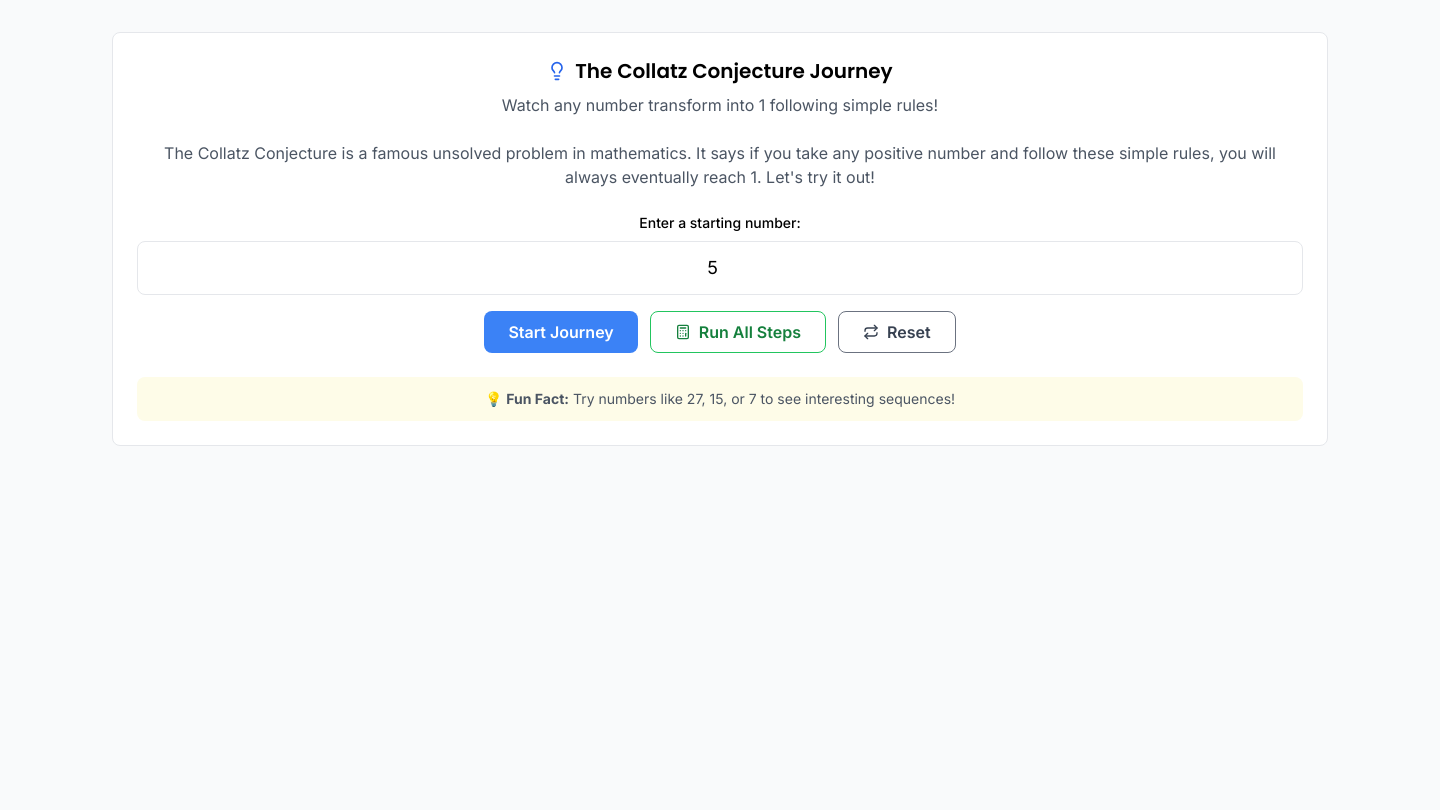
Test: CollatzVisualizer › runs all steps when Run All Steps is clicked
What coordinates should you click on to do the following:
click the button "Run All Steps"
I would click on:
 (738, 332)
Its box is x1=650 y1=311 x2=826 y2=353.
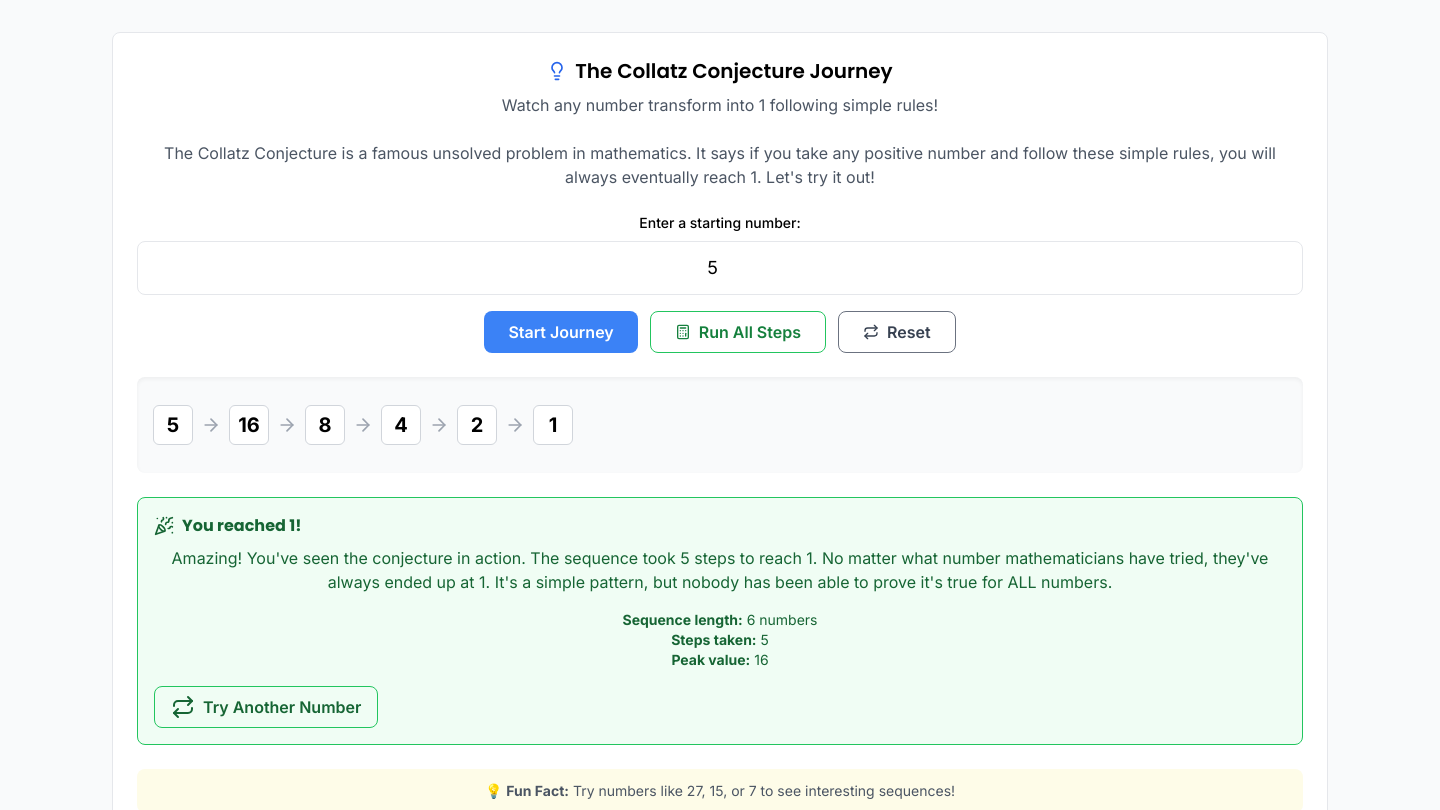
Now the heading "You reached 1!" is shown, box x1=154 y1=514 x2=302 y2=537
